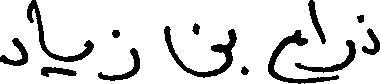X: (164, 18, 227, 82), (268, 25, 306, 83), (111, 25, 139, 83), (327, 35, 355, 83), (310, 0, 325, 83), (0, 33, 25, 70), (35, 0, 46, 81), (365, 23, 379, 59), (229, 24, 234, 71), (84, 35, 91, 62)
